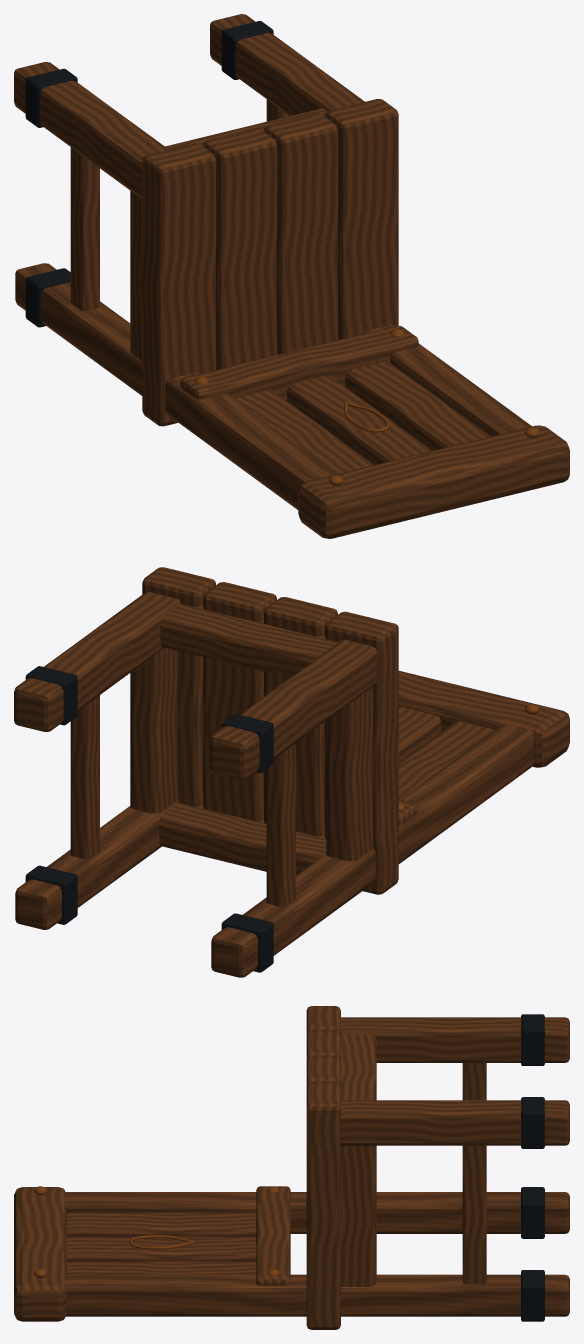
File: Chair.obj
The picture shows the model from 3 angles, top to bottom: view 1: azimuth 30°, elevation 25°; view 2: azimuth 150°, elevation 25°; view 3: azimuth 270°, elevation 25°; orthographic projection. The views are drawn at different scales.
Parts seen in each view (by area): view 1: Seat_Plank.003, Crown_Rail, Seat_Plank.002, Seat_Plank.001, Rear_Leg_And_Backpost.001, Seat_Plank, Front_Leg.001, Back_Lower_Rail, Front_Leg, Backrest_Slat, Backrest_Slat.001, Rear_Leg_And_Backpost (+7 smaller); view 2: Rear_Leg_And_Backpost.001, Front_Leg.001, Front_Leg, Seat_Plank.003, Seat_Plank.001, Side_Seat_Rail, Seat_Cross_Rail, Side_Seat_Rail.001, Rear_Leg_And_Backpost, Crown_Rail, Seat_Cross_Rail.001, Seat_Plank (+9 smaller); view 3: Rear_Leg_And_Backpost, Rear_Leg_And_Backpost.001, Front_Leg, Seat_Plank, Front_Leg.001, Crown_Rail, Side_Seat_Rail, Backrest_Slat.002, Backrest_Slat.001, Low_Side_Stretcher, Back_Lower_Rail, Backrest_Slat (+10 smaller).
Boxes of the visible parts, x1,y1,x2,y2 form: Seat_Plank.003: (142,143,215,426); Crown_Rail: (298,425,569,538); Seat_Plank.002: (203,128,276,369); Seat_Plank.001: (264,113,337,354); Rear_Leg_And_Backpost.001: (15,263,335,509); Seat_Plank: (325,99,398,339); Front_Leg.001: (14,62,168,198); Back_Lower_Rail: (180,325,418,400); Front_Leg: (210,14,364,115); Backrest_Slat: (345,361,490,450); Backrest_Slat.001: (287,375,432,464); Rear_Leg_And_Backpost: (362,325,531,436); Rear_Leg_And_Backpost.001: (211,724,534,977); Front_Leg.001: (210,639,377,779); Front_Leg: (14,592,180,731); Seat_Plank.003: (325,611,398,894); Seat_Plank.001: (203,582,276,821); Side_Seat_Rail: (130,647,177,813); Seat_Cross_Rail: (160,604,338,677); Side_Seat_Rail.001: (326,687,372,861); Rear_Leg_And_Backpost: (15,800,178,929); Crown_Rail: (398,670,569,767); Seat_Cross_Rail.001: (159,803,326,875); Seat_Plank: (142,567,215,806); Rear_Leg_And_Backpost: (64,1274,569,1316); Rear_Leg_And_Backpost.001: (64,1192,569,1233); Front_Leg: (340,1100,569,1145); Seat_Plank: (306,1083,340,1329); Front_Leg.001: (341,1017,569,1062); Crown_Rail: (14,1187,66,1321); Side_Seat_Rail: (341,1145,376,1286); Backrest_Slat.002: (67,1212,256,1236); Backrest_Slat.001: (67,1237,256,1261); Low_Side_Stretcher: (462,1145,486,1283); Back_Lower_Rail: (256,1186,290,1285); Backrest_Slat: (67,1261,256,1274).
Bounding box in the file's own units: 0.47 × 0.47 × 1.05.
3 materials, 1 textured.
